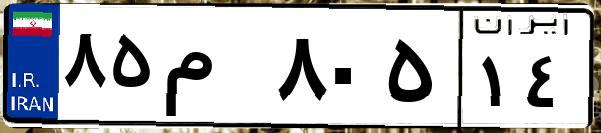0: (330, 28, 385, 110)
1: (475, 38, 525, 113)
4: (525, 38, 570, 115)
5: (385, 28, 445, 110), (110, 28, 158, 98)
8: (270, 28, 330, 110), (57, 26, 110, 100)
م: (158, 20, 270, 120)
